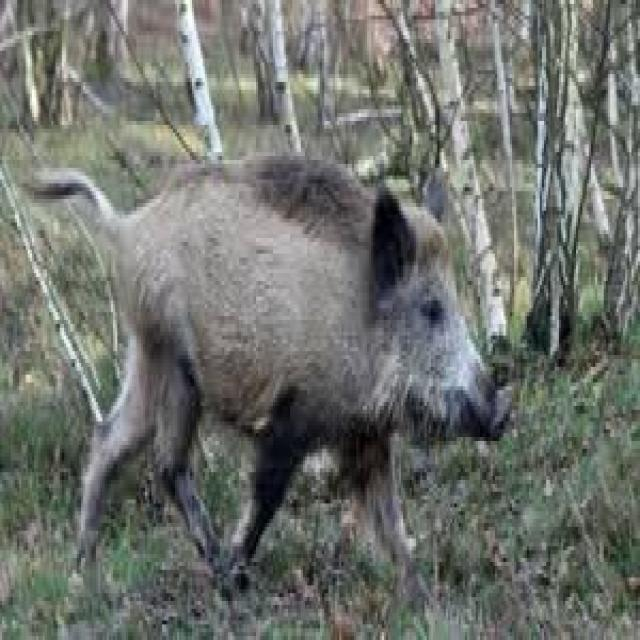Boar: (34, 151, 514, 572)
